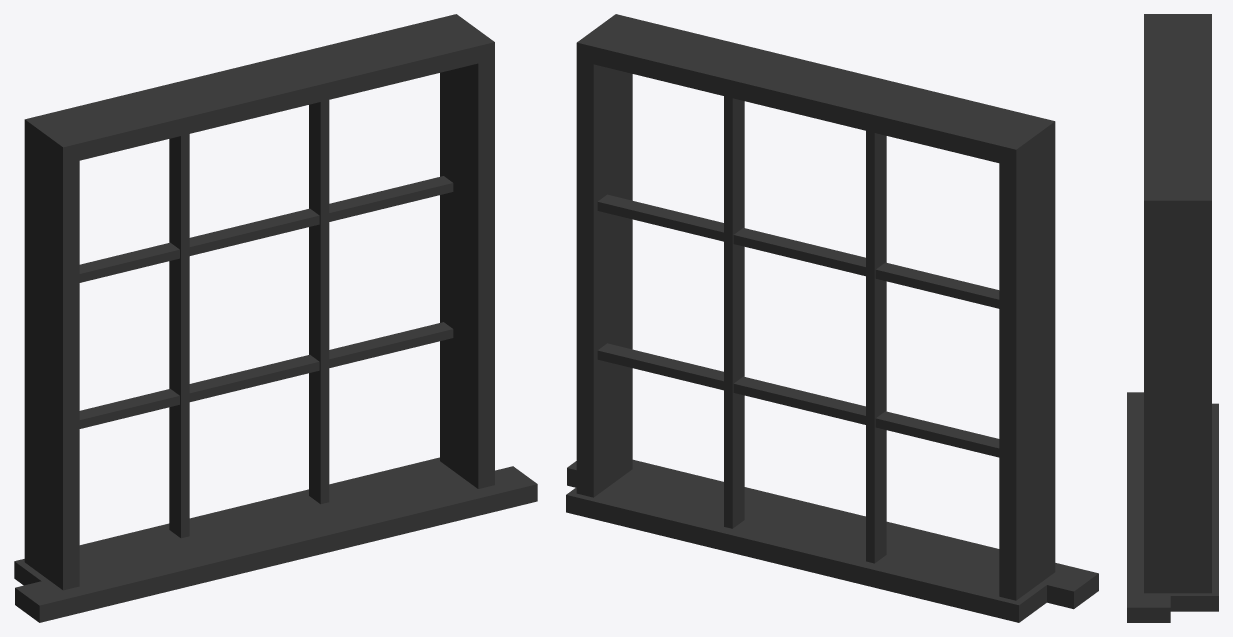
Rendered from Window2_02.fbx.
3 renders of one model, left to right at view 1: azimuth 30°, elevation 25°; view 2: azimuth 150°, elevation 25°; view 3: azimuth 270°, elevation 25°, orthographic. The views are drawn at different scales.
Visible parts, largest first — view 1: Window2_02; view 2: Window2_02; view 3: Window2_02.
Part boxes in pixels (x1,y1,x2,y2): Window2_02: (14,14,537,622); Window2_02: (566,14,1098,622); Window2_02: (1127,14,1218,622).
Bounding box in the file's own units: 150 × 133 × 27.
